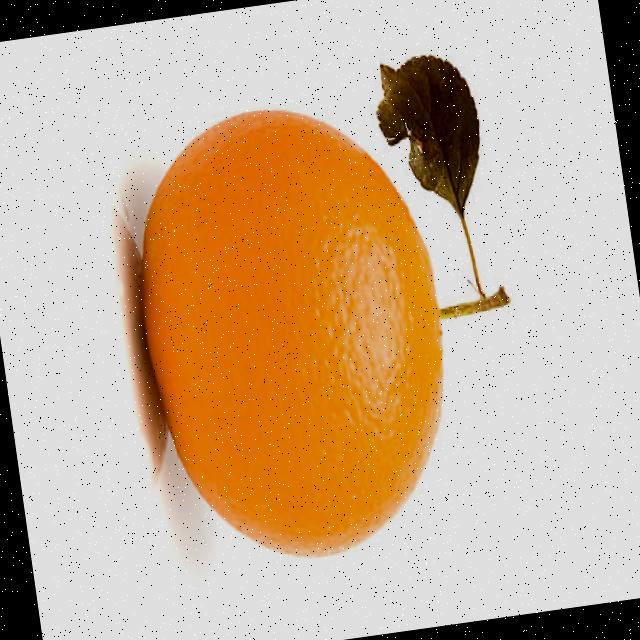Ripe: (112, 72, 478, 587)
